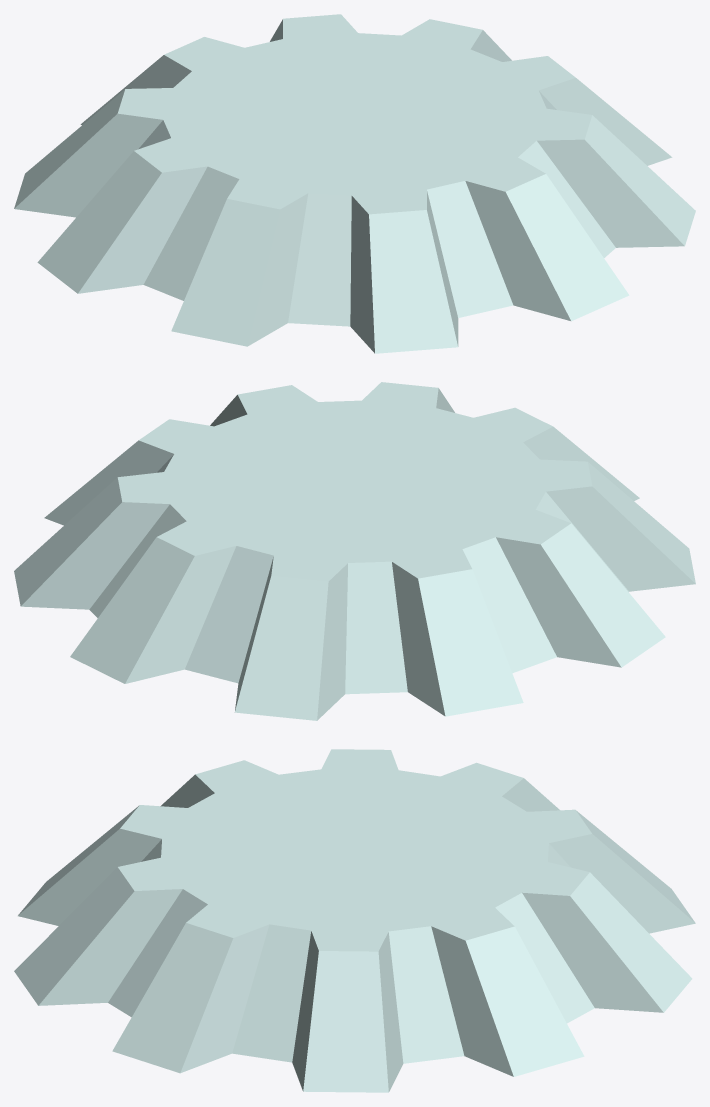
3 views of the same model, one above another, from view 1: azimuth 30°, elevation 25°; view 2: azimuth 150°, elevation 25°; view 3: azimuth 270°, elevation 25° (orthographic).
Parts seen in each view (by area): view 1: Object62; view 2: Object62; view 3: Object62.
Part boxes in pixels (x1,y1,x2,y2): Object62: [14, 14, 695, 353]; Object62: [14, 382, 695, 720]; Object62: [14, 749, 695, 1092].
Bounding box in the file's own units: 188 × 29.28 × 187.
